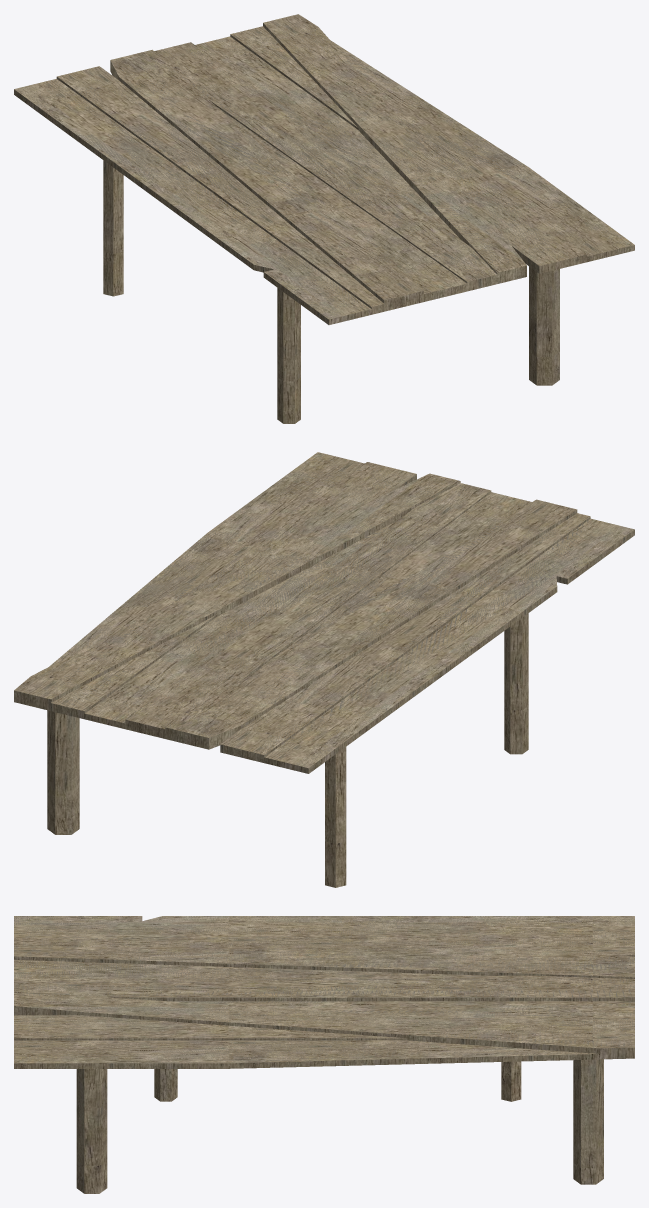
The model's file is Table.fbx.
3 renders of one model, top to bottom at view 1: azimuth 30°, elevation 25°; view 2: azimuth 150°, elevation 25°; view 3: azimuth 270°, elevation 25°, orthographic. The views are drawn at different scales.
Visible parts, largest first — view 1: Model; view 2: Model; view 3: Model.
Part boxes in pixels (x1,y1,x2,y2): Model: (14, 14, 634, 423); Model: (14, 452, 634, 887); Model: (14, 916, 634, 1193).
Bounding box in the file's own units: 64 × 34.19 × 114.
